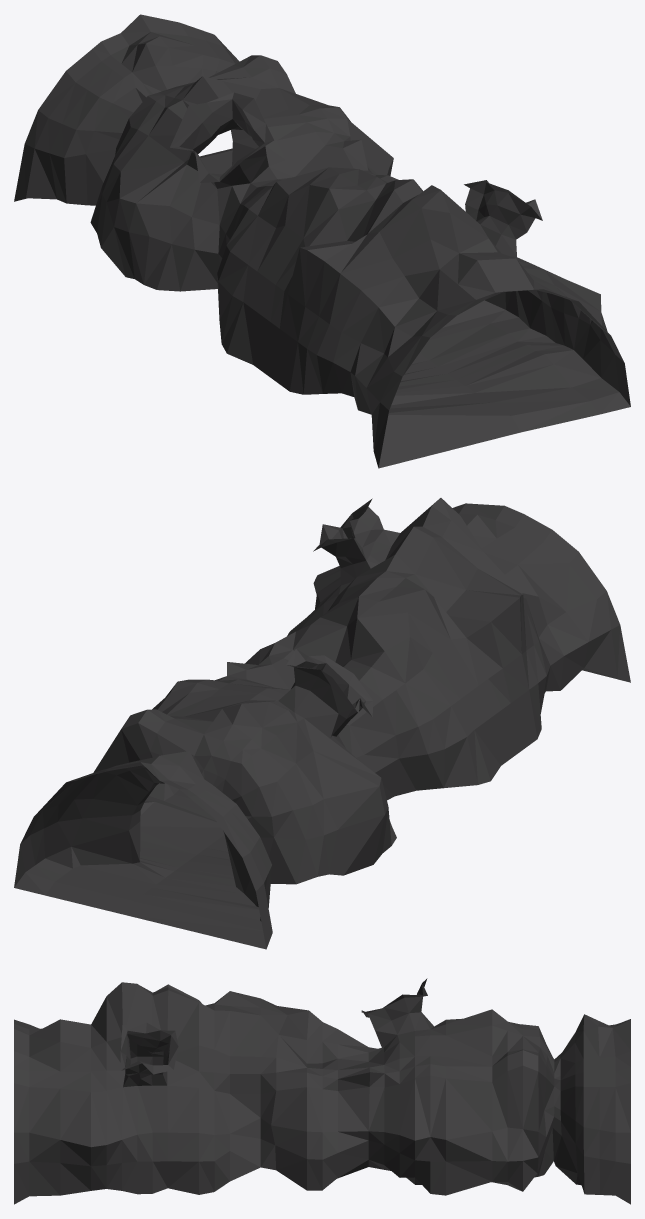
File: Cave_4_LOD_1.fbx
3 renders of one model, top to bottom at view 1: azimuth 30°, elevation 25°; view 2: azimuth 150°, elevation 25°; view 3: azimuth 270°, elevation 25°, orthographic. The views are drawn at different scales.
Parts seen in each view (by area): view 1: polySurface1217; view 2: polySurface1217; view 3: polySurface1217.
Part boxes in pixels (x1=…): polySurface1217: x1=14, y1=14, x2=630, y2=468; polySurface1217: x1=14, y1=498, x2=630, y2=949; polySurface1217: x1=14, y1=978, x2=630, y2=1204.
Size of the model in its own units: 8.79 by 6.09 by 20.
